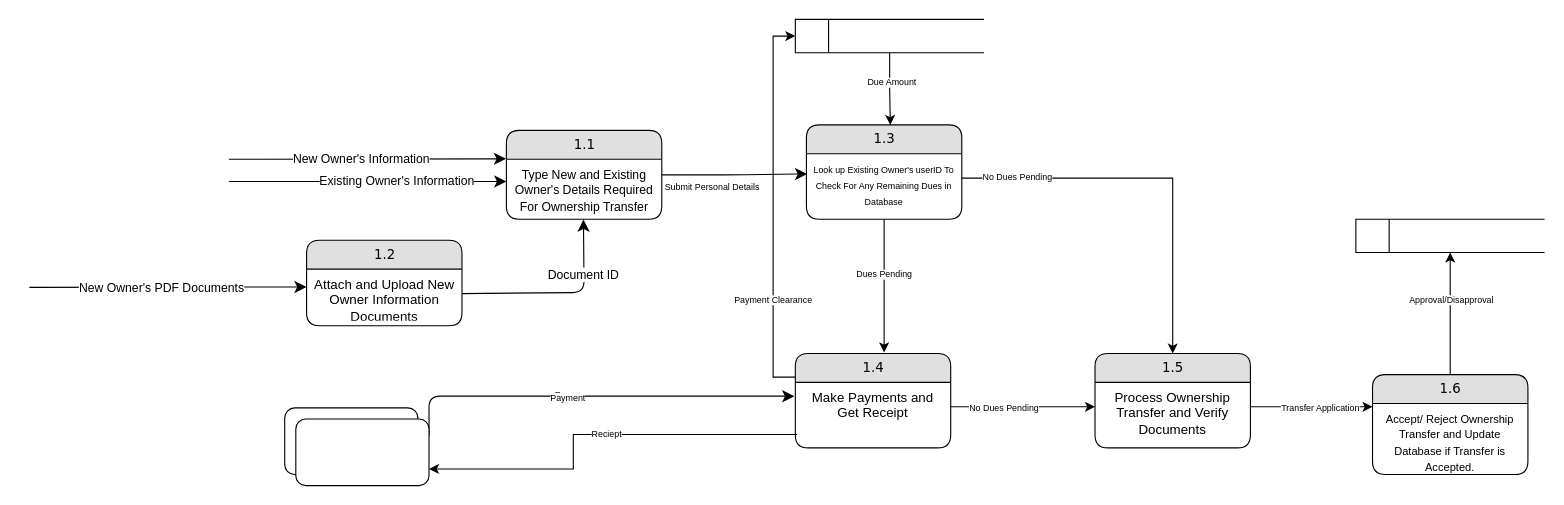
The diagram is 1564 pixels wide and 505 high, and some of its shapes have lost their labels. The centre of each missing label's shape, as x and y in pixels:
"D1 User Dues Record" belongs at (x=889, y=35).
"D2 User Record" belongs at (x=1450, y=235).
"Existing User" belongs at (x=362, y=452).
